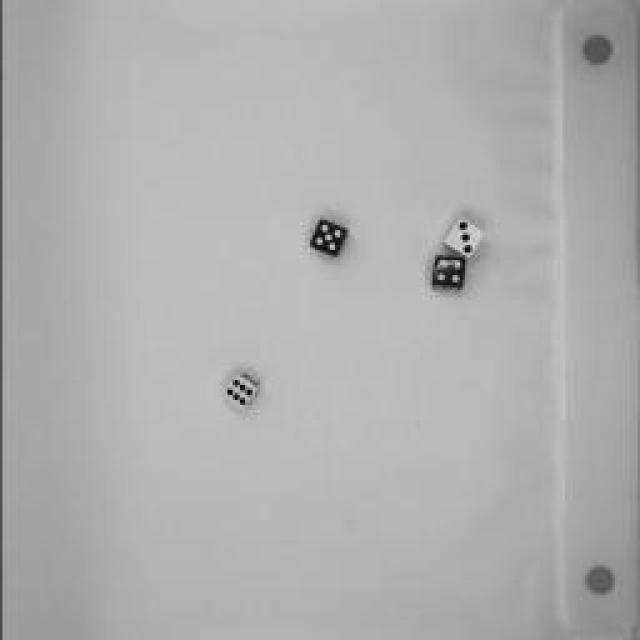dice_3: (440, 212, 490, 262)
dice_4: (426, 252, 469, 298)
dice_5: (302, 212, 352, 262)
dice_6: (216, 368, 264, 414)
